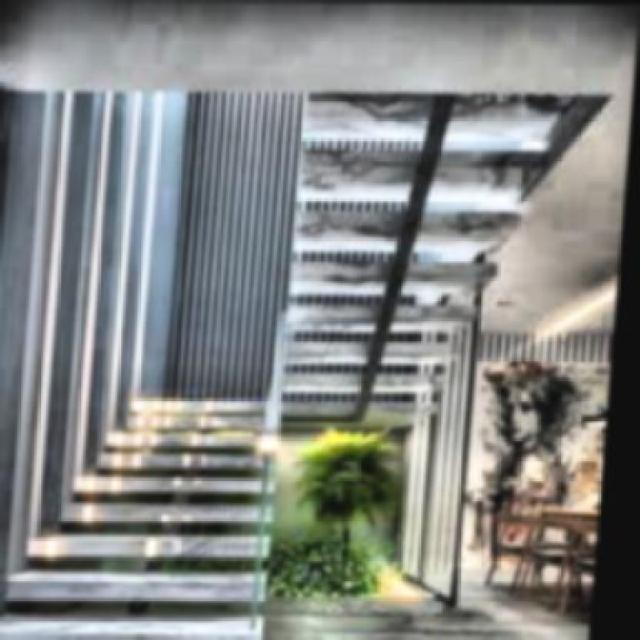stair: (32, 382, 296, 638)
